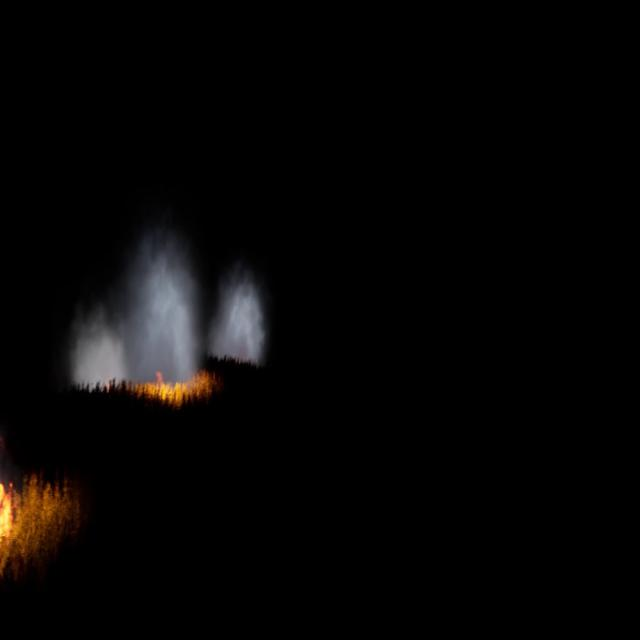fire: (0, 487, 16, 536)
smoke: (72, 228, 204, 380), (209, 261, 269, 374)
